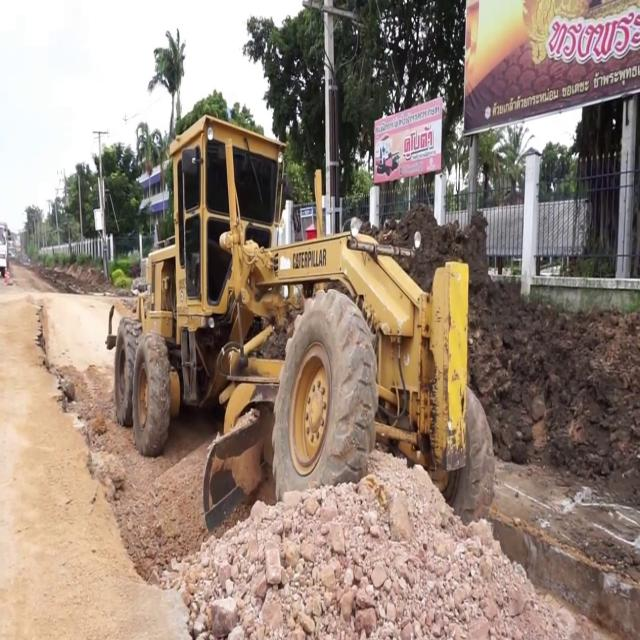buldozerpayloadergrader: (104, 114, 496, 532)
